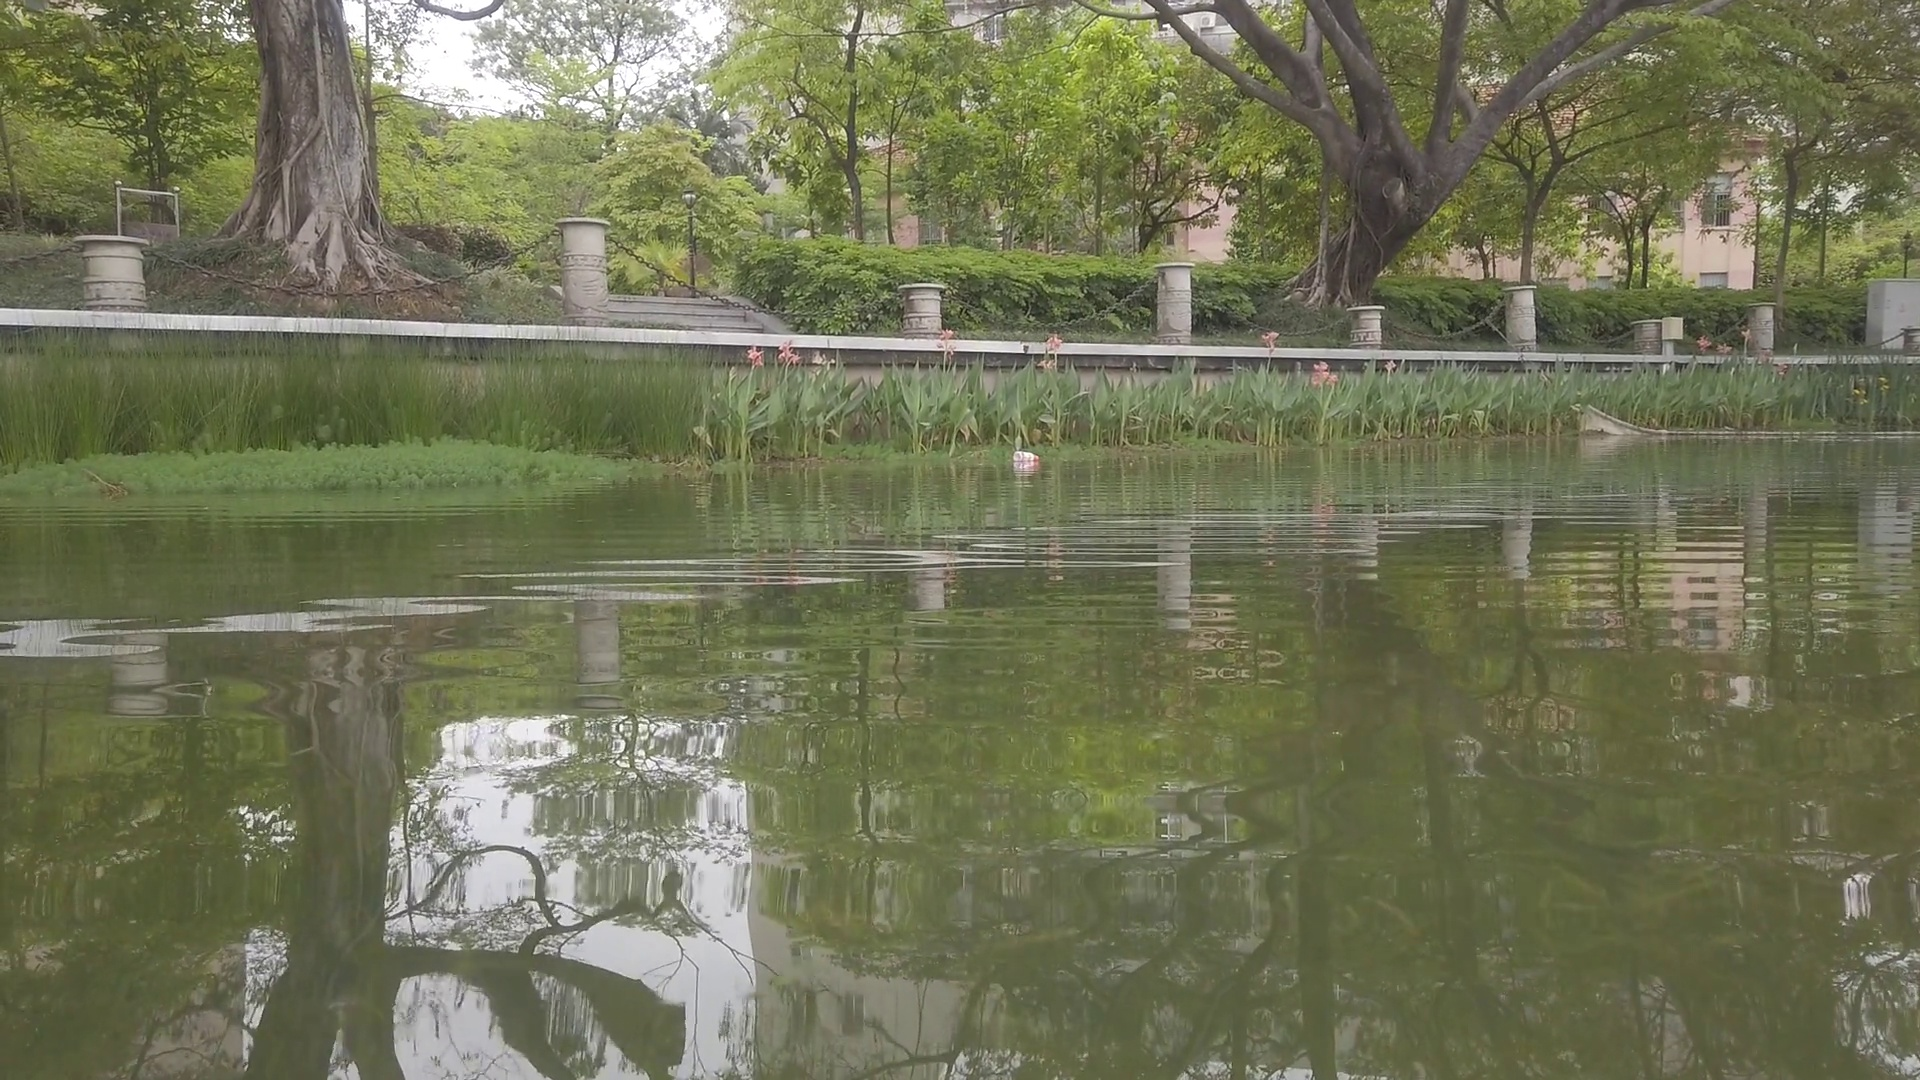bottle: (1013, 451, 1040, 462)
